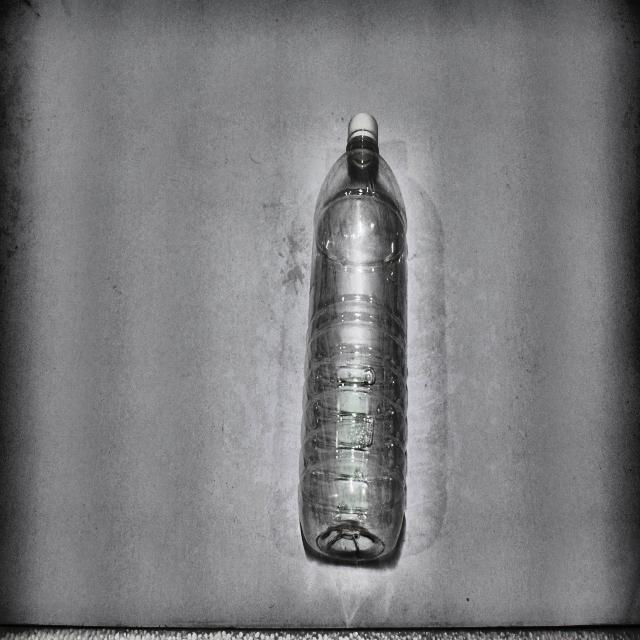plastic bottle: (299, 112, 408, 562)
